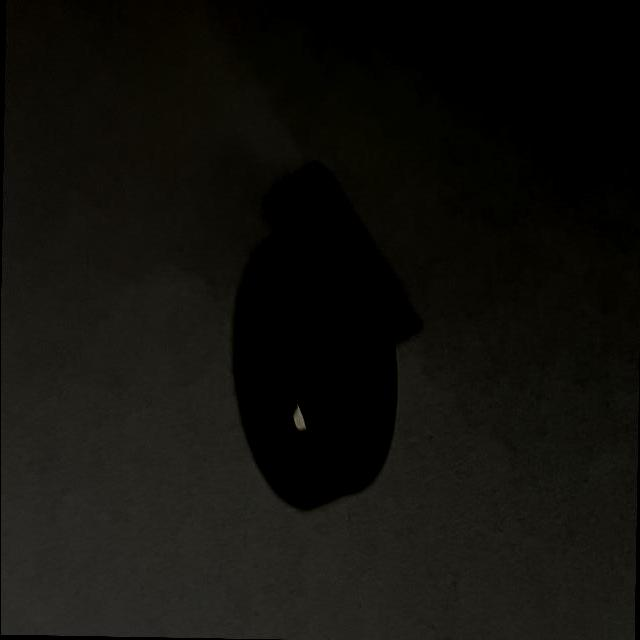COIN: (232, 201, 401, 514)
